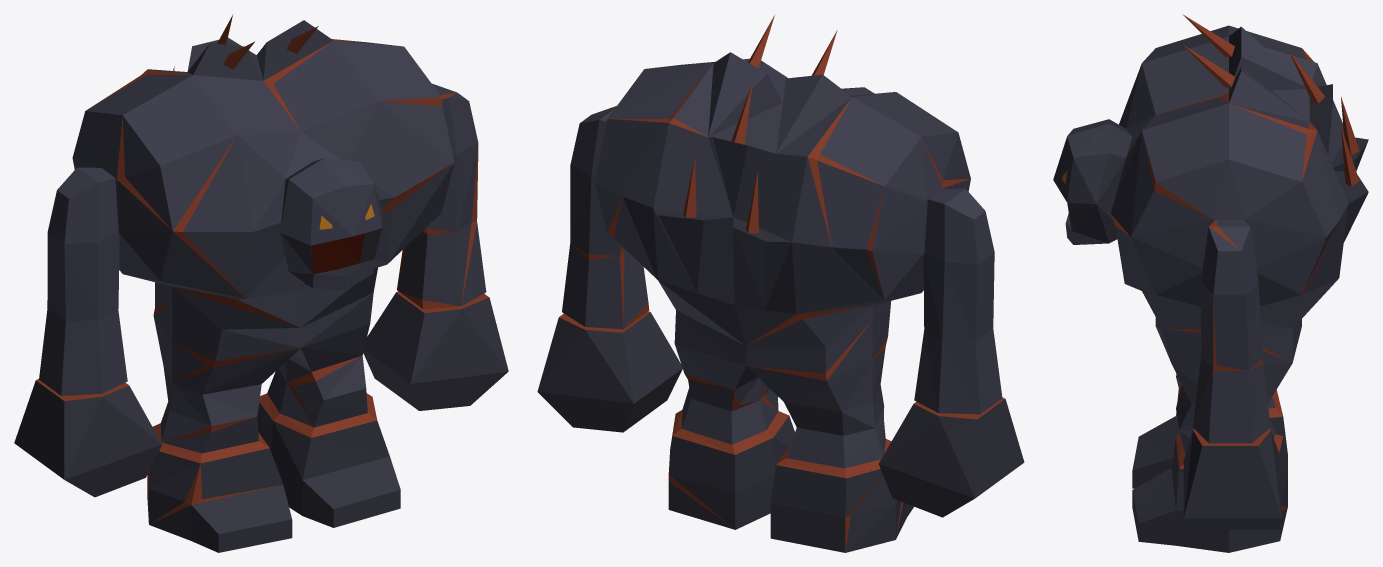
File: tok_xil.glb
The picture shows the model from 3 angles, left to right: view 1: azimuth 30°, elevation 25°; view 2: azimuth 150°, elevation 25°; view 3: azimuth 270°, elevation 25°; orthographic projection. The views are drawn at different scales.
Size of the model in its own units: 322 by 333 by 203.
Materials: 1 (1 with a texture image).
